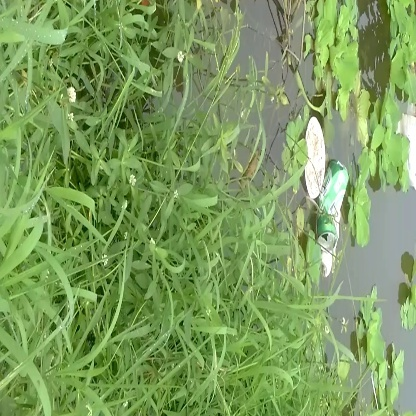bottle: (313, 159, 353, 249)
